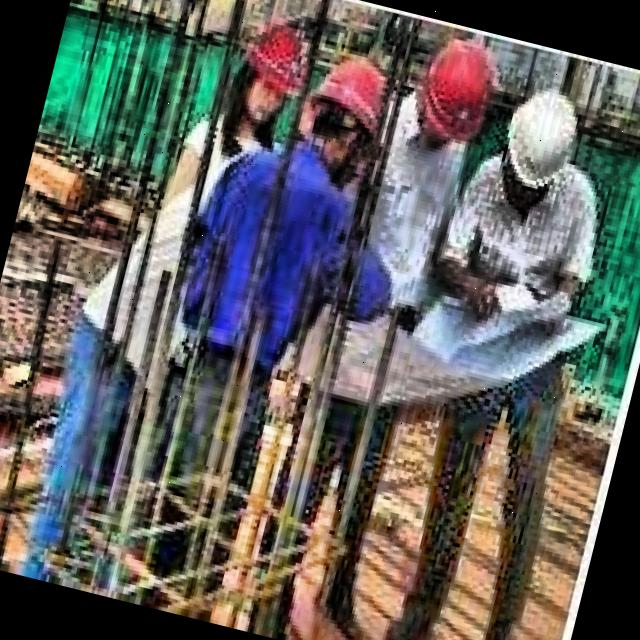helmet: (288, 42, 406, 189), (404, 26, 510, 156), (496, 81, 588, 199), (230, 5, 316, 130)
